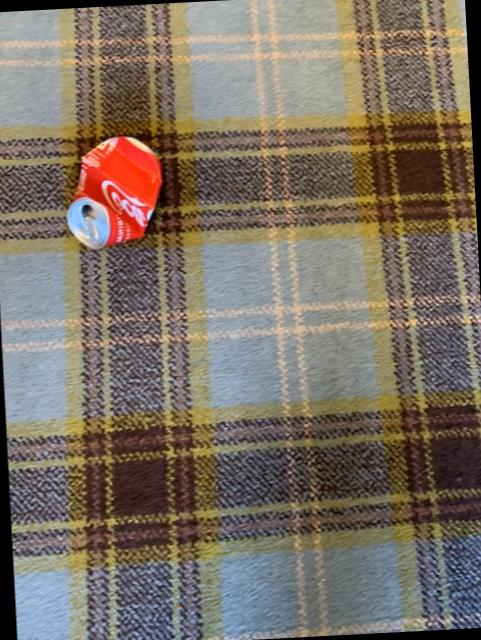metal: (65, 138, 159, 250)
